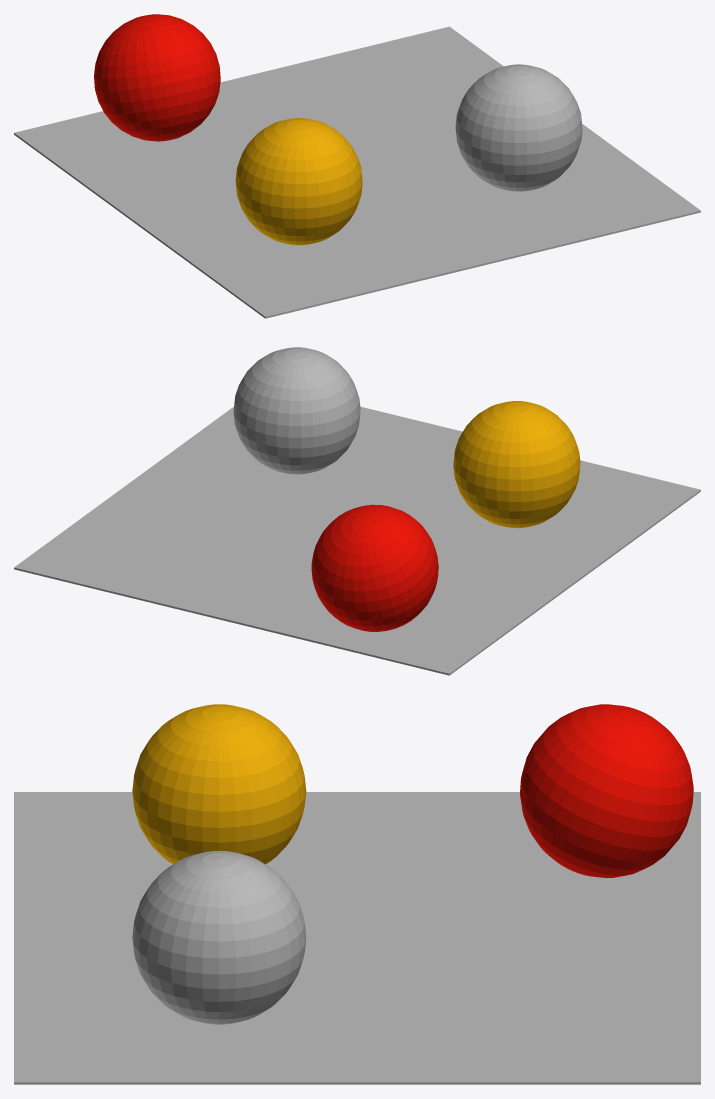
File: UseCase_01-variant3-geometry.gltf
3 views of the same model, one above another, from view 1: azimuth 30°, elevation 25°; view 2: azimuth 150°, elevation 25°; view 3: azimuth 270°, elevation 25° (orthographic). The views are drawn at different scales.
Visible parts, largest first — view 1: Cube, Sphere_Yellow, Sphere_Red, Sphere_Gray; view 2: Cube, Sphere_Red, Sphere_Yellow, Sphere_Gray; view 3: Cube, Sphere_Gray, Sphere_Red, Sphere_Yellow.
Boxes of the visible parts, bbox=[...] form: Cube: bbox=[14, 26, 700, 318]; Sphere_Yellow: bbox=[235, 118, 362, 245]; Sphere_Red: bbox=[94, 14, 220, 141]; Sphere_Gray: bbox=[455, 64, 582, 191]; Cube: bbox=[14, 406, 700, 675]; Sphere_Red: bbox=[311, 504, 438, 631]; Sphere_Yellow: bbox=[453, 401, 580, 528]; Sphere_Gray: bbox=[233, 347, 360, 474]; Cube: bbox=[14, 792, 700, 1084]; Sphere_Gray: bbox=[132, 850, 306, 1024]; Sphere_Red: bbox=[520, 704, 693, 877]; Sphere_Yellow: bbox=[132, 704, 306, 864].
Bounding box in the file's own units: 11.88 × 3.01 × 11.88.
